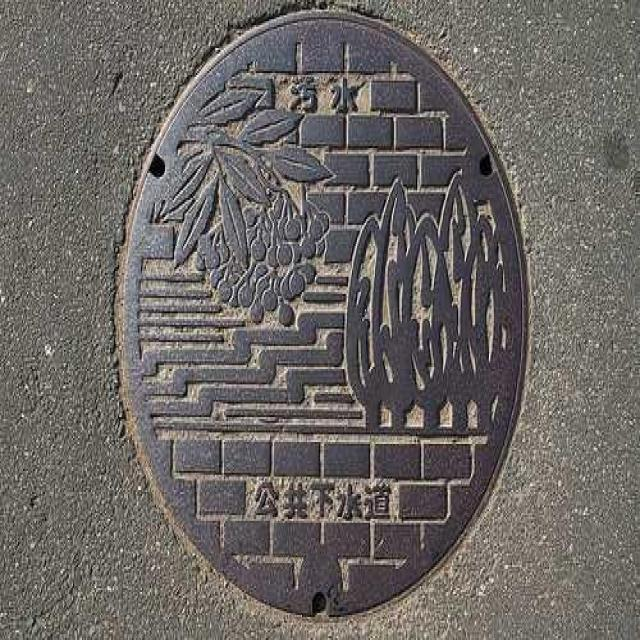manhole: (121, 11, 527, 615)
